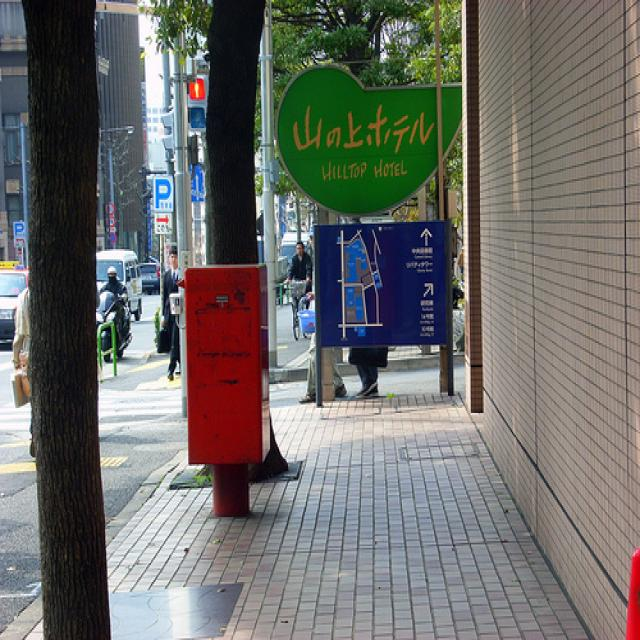motor: (97, 291, 134, 358)
